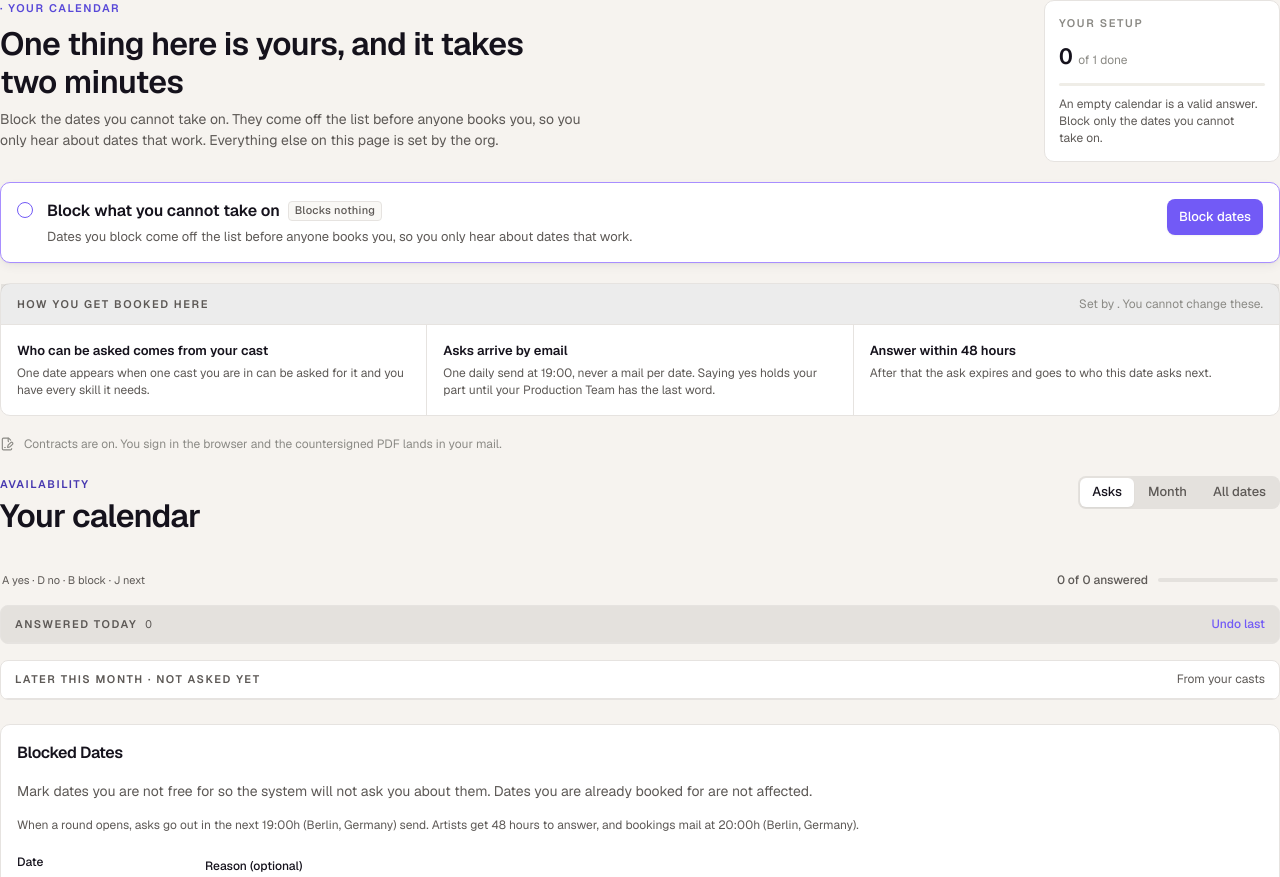
Test: AvailabilityPage — past active booking merge (calendar surface) › shows a past confirmed date in All dates, with its hire-order link
The width and height of the screenshot is (1280, 877).
Click the tab "All dates" at point(1240, 492), box [1201, 478, 1278, 506]
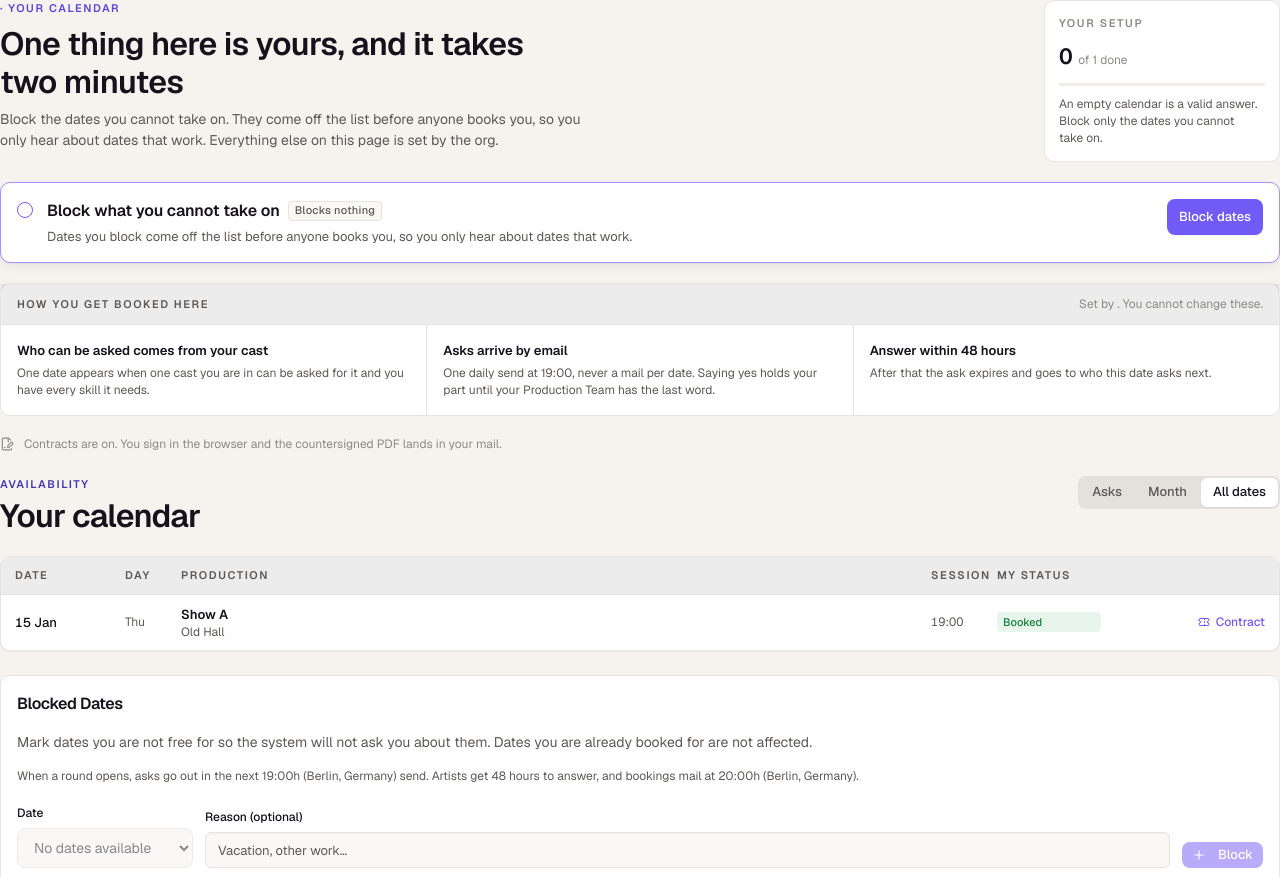
Result: the element with test id "all-dates-row-d-past" shows "Show A" at [181, 606, 228, 622]
Result: the element with test id "all-dates-row-d-past" shows "Old Hall" at [181, 624, 224, 640]
